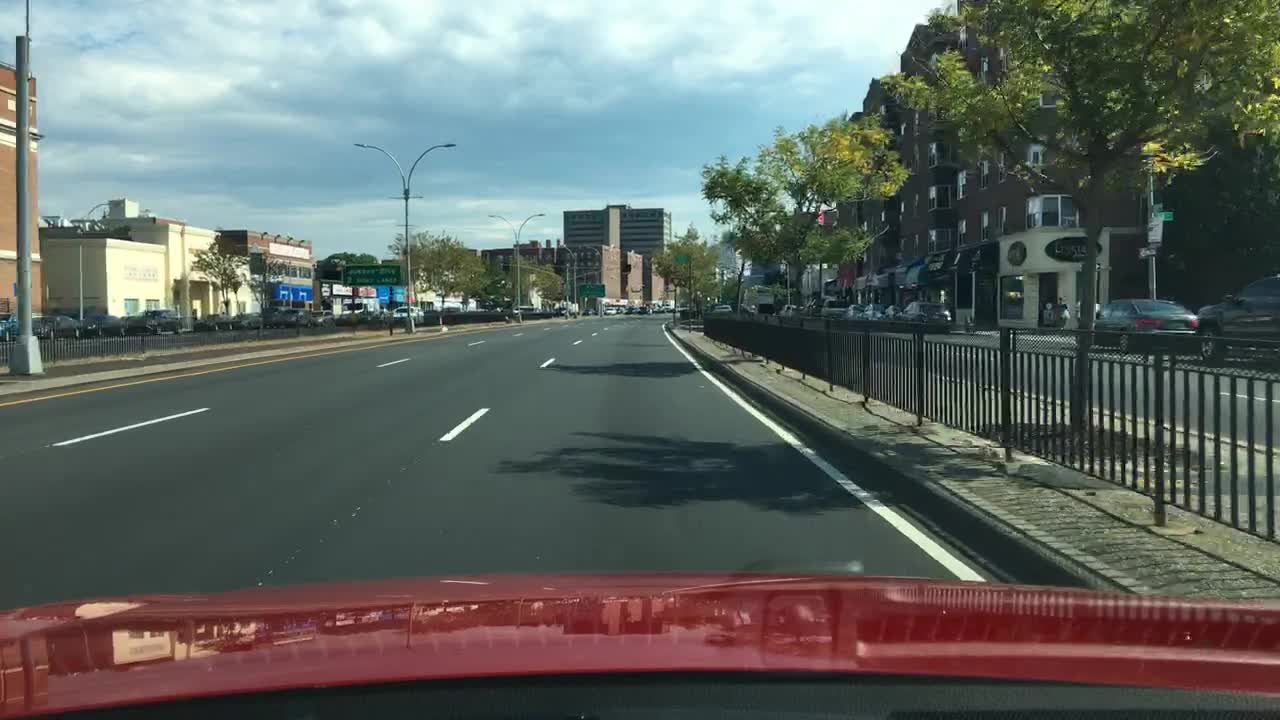car: (1194, 273, 1278, 364), (1080, 297, 1198, 352), (127, 306, 183, 336), (896, 301, 952, 326), (81, 311, 130, 339), (29, 314, 79, 341), (191, 313, 235, 334), (281, 306, 314, 329), (117, 314, 147, 339), (391, 303, 424, 325), (0, 313, 24, 343), (818, 298, 848, 322), (233, 309, 265, 330), (805, 296, 826, 323), (311, 305, 338, 325), (359, 308, 393, 323), (260, 306, 282, 328), (863, 301, 886, 322), (845, 302, 865, 325), (780, 302, 804, 320), (334, 311, 362, 326), (753, 302, 778, 318), (883, 305, 901, 323), (712, 301, 733, 315), (554, 304, 571, 319), (649, 300, 664, 314), (638, 304, 654, 316), (661, 300, 675, 313), (442, 305, 459, 315), (604, 304, 618, 316), (624, 304, 640, 314), (580, 305, 596, 315), (611, 304, 625, 315)
person: (1052, 296, 1071, 326)
traffic sign: (341, 262, 401, 286), (578, 281, 606, 298), (1145, 221, 1166, 240), (1148, 209, 1176, 223), (1136, 243, 1158, 258), (671, 252, 690, 263), (1150, 202, 1163, 214)
